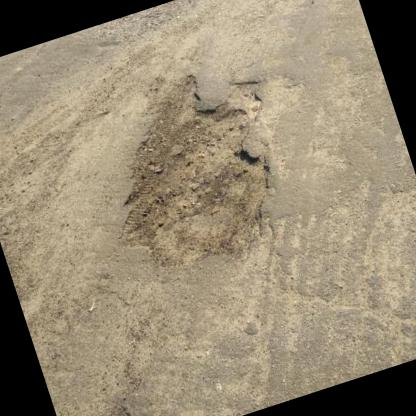pothole: (75, 50, 312, 290), (70, 396, 152, 416)
